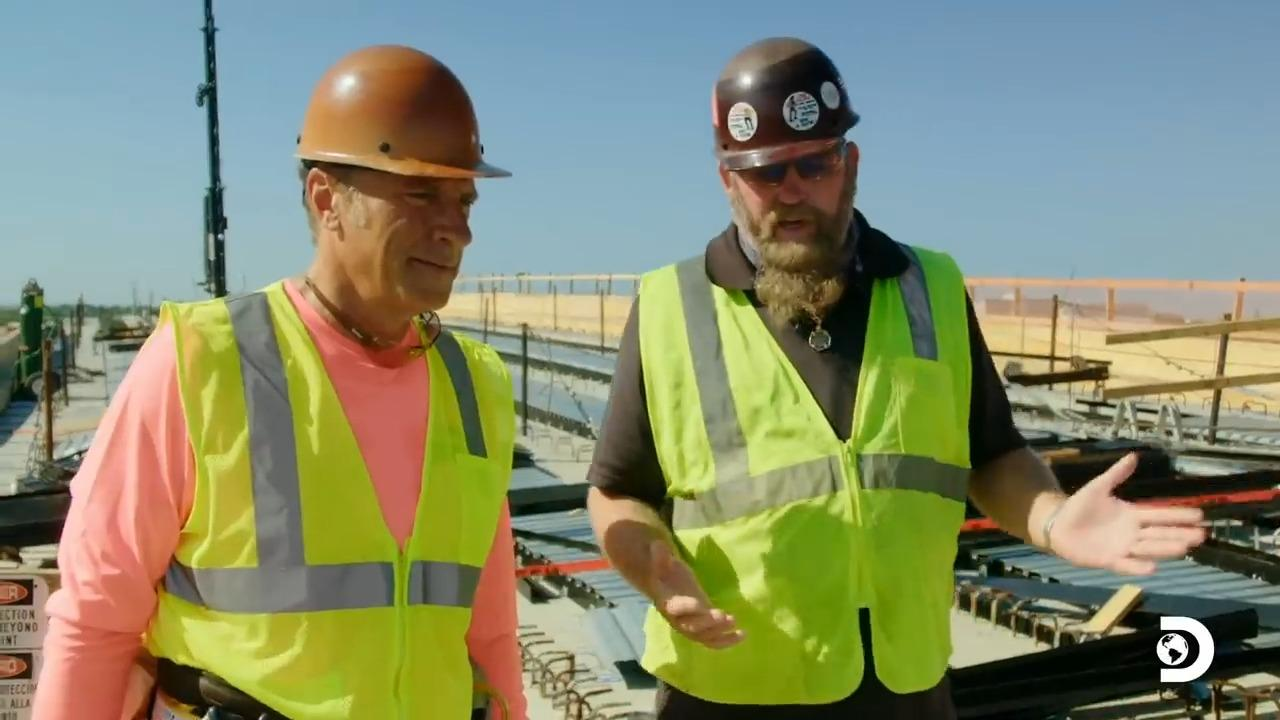Helmet: (293, 43, 512, 179), (711, 36, 860, 170)
Person: (584, 35, 1209, 719), (29, 43, 530, 719)
Safety Vest: (178, 332, 492, 720), (661, 317, 950, 695)
bare-arms: (1052, 451, 1201, 610), (626, 556, 737, 643)
